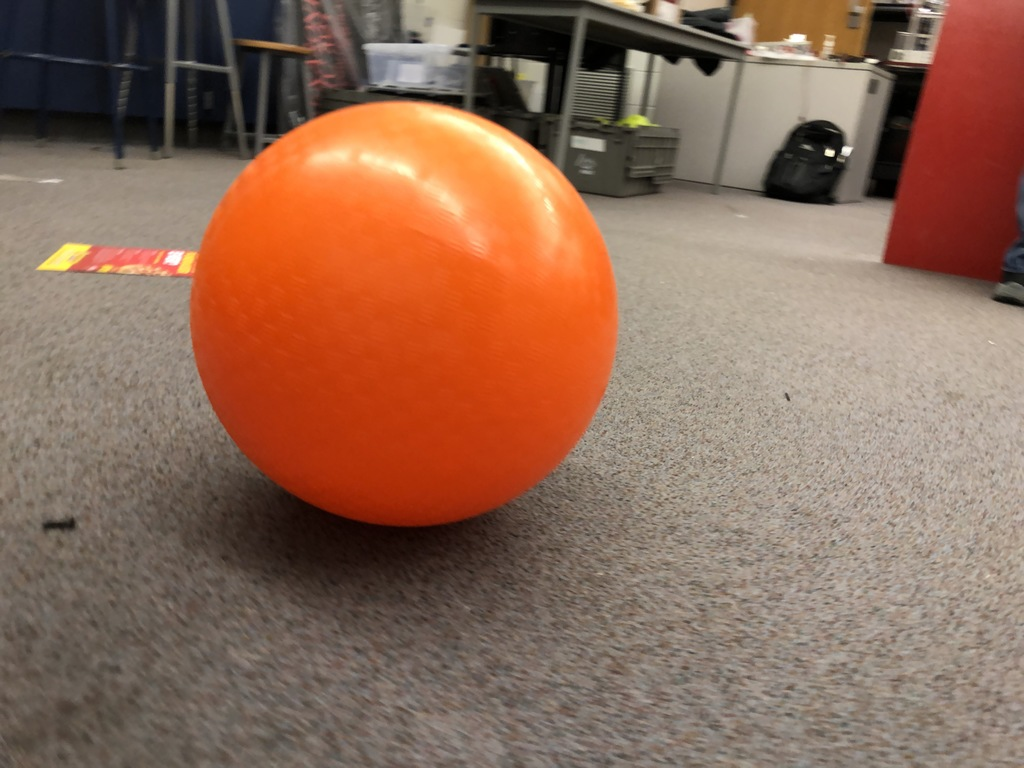cargo: (180, 91, 628, 533)
